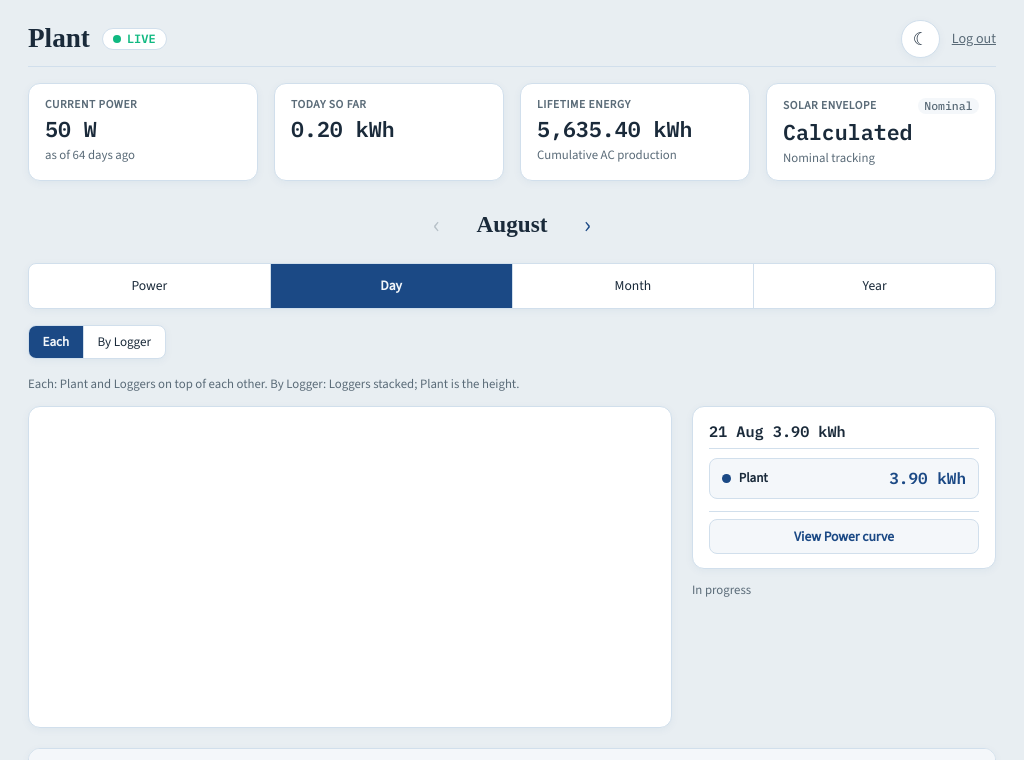
Test: Plant view › draws Stack Day segments from loggers and Overlay Day without them
This screenshot has width=1024, height=760.
Step 1. Click the button "By Logger" → (124, 342), box top-left (84, 326), bottom-right (165, 358)
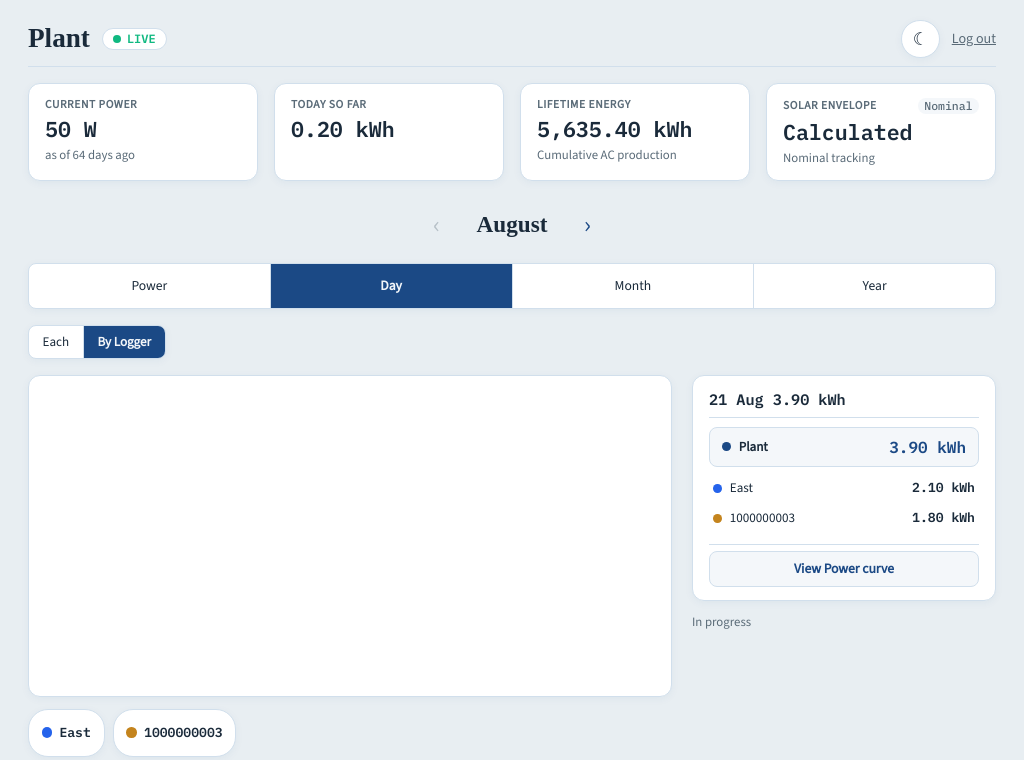
Expected: the button "1000000003" is shown, top-left (113, 709), bottom-right (236, 757)
Expected: the button "East" is shown, top-left (28, 709), bottom-right (105, 757)
